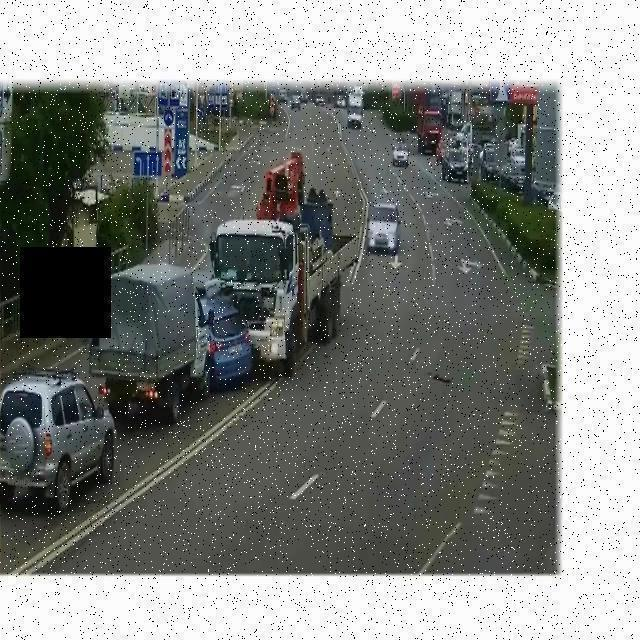accident: (85, 154, 361, 434)
